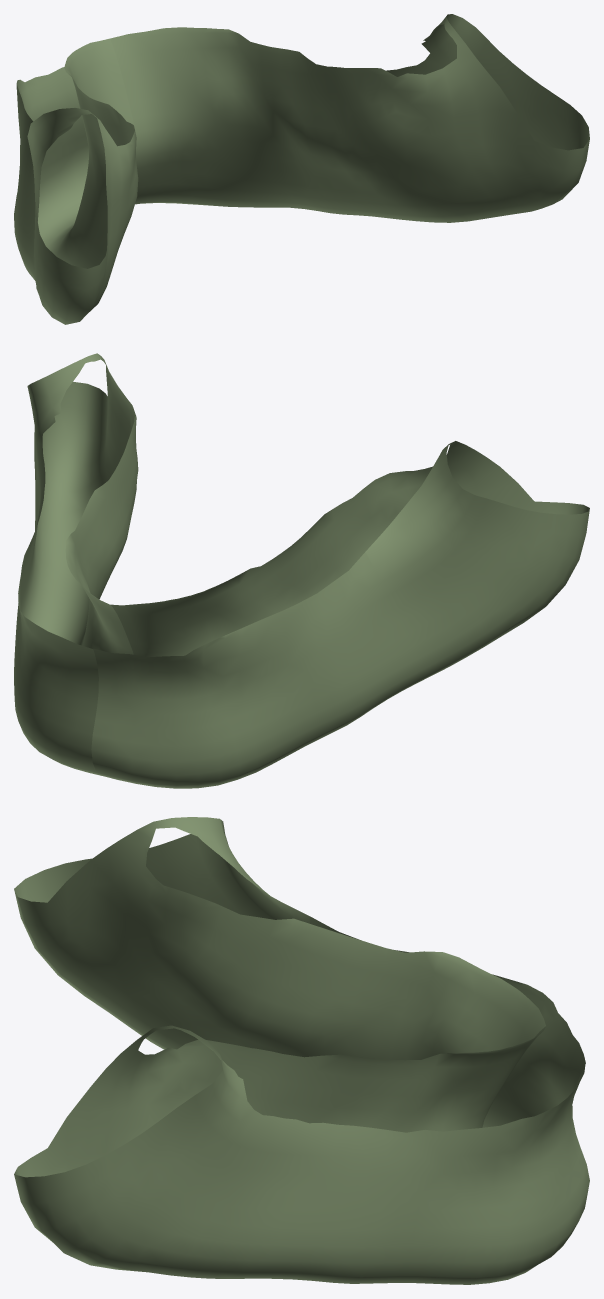
3 views of the same model, one above another, from view 1: azimuth 30°, elevation 25°; view 2: azimuth 150°, elevation 25°; view 3: azimuth 270°, elevation 25° (orthographic). The views are drawn at different scales.
Visible parts, largest first — view 1: Base; view 2: Base; view 3: Base.
Part boxes in pixels (x1=…): Base: x1=14, y1=14, x2=589, y2=324; Base: x1=14, y1=353, x2=589, y2=788; Base: x1=14, y1=817, x2=589, y2=1284.
Size of the model in its own units: 458 by 213 by 361.
